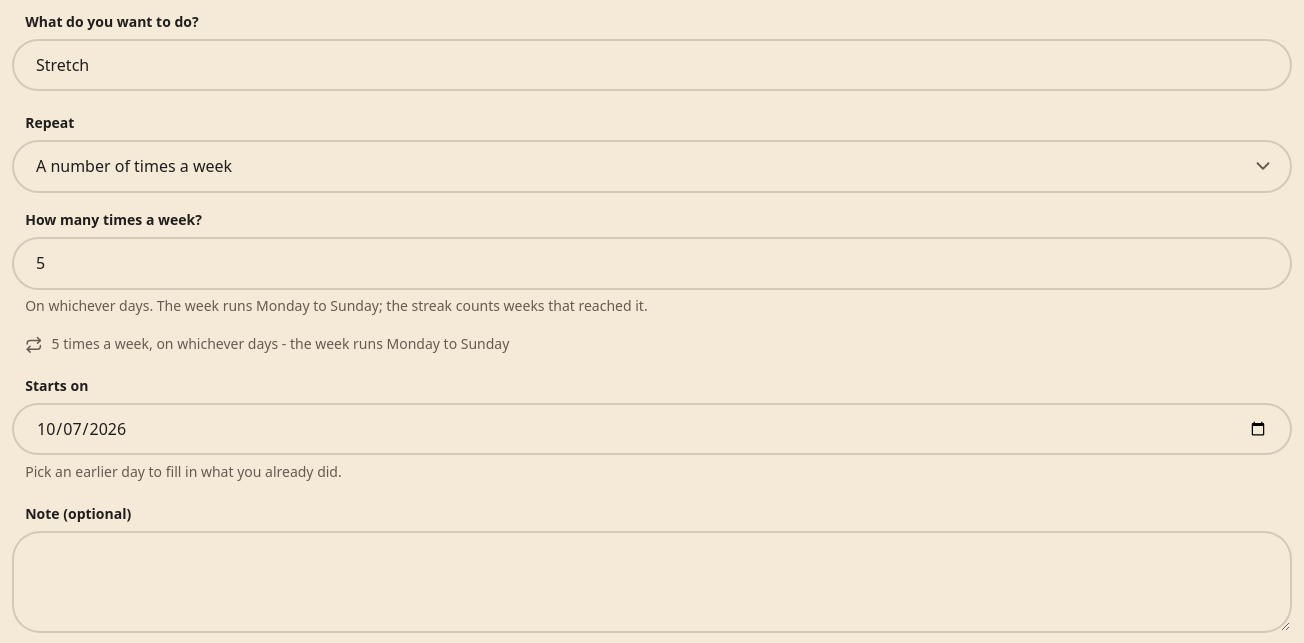
HabitForm: the repeat rule › keeps the count while the kind is switched between the week and the month
Select "A number of times a month" in the dropdown labelled "Repeat" at (652, 166), box [12, 140, 1292, 193]
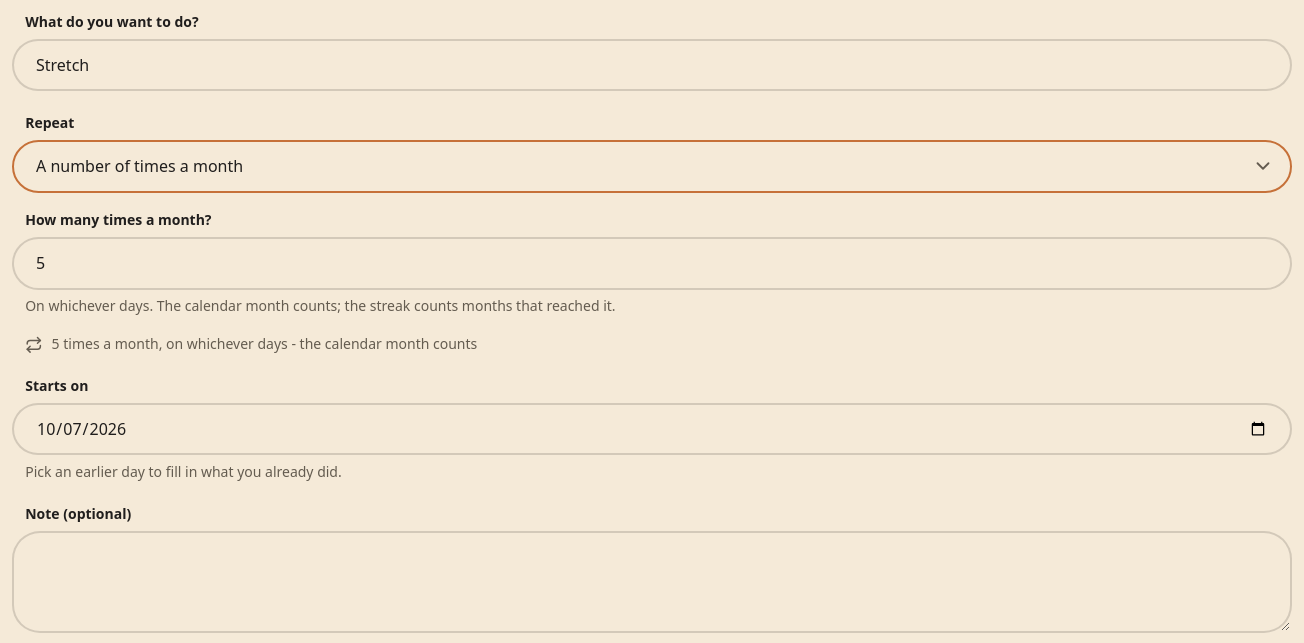
Expected: the number field labelled "How many times a month?" holds "5", [12, 237, 1292, 290]
Select "On days of the week" in the dropdown labelled "Repeat" at (652, 166), box [12, 140, 1292, 193]
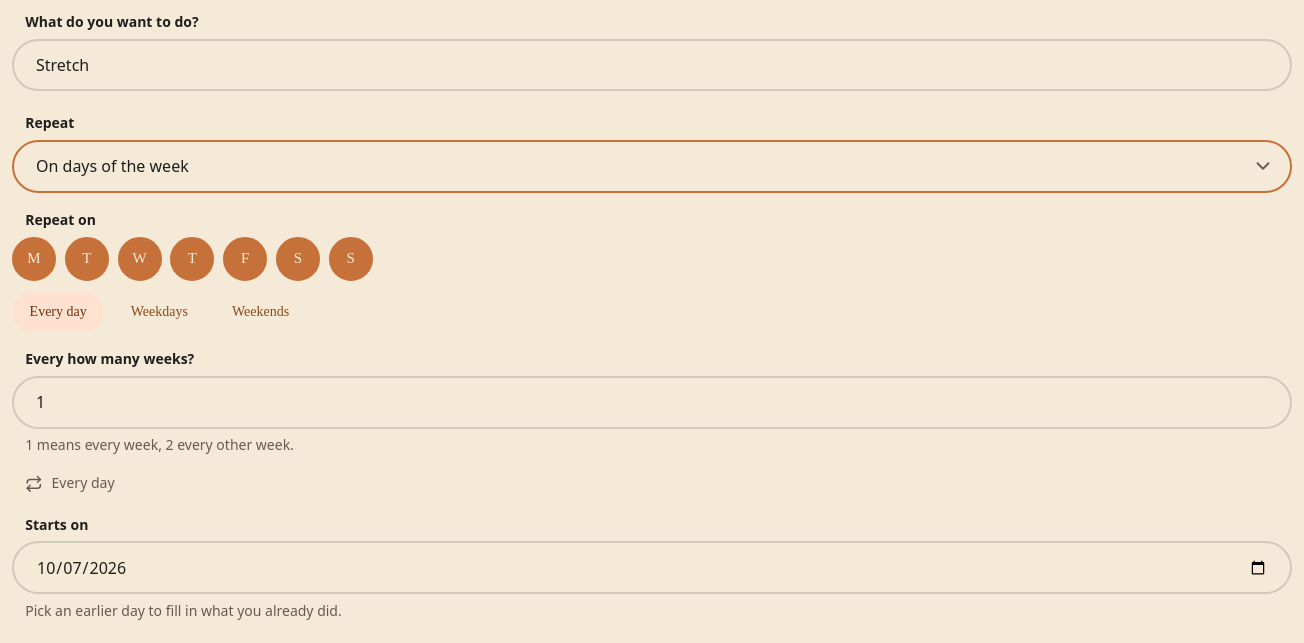
Select "A number of times a week" in the dropdown labelled "Repeat" at (652, 166), box [12, 140, 1292, 193]
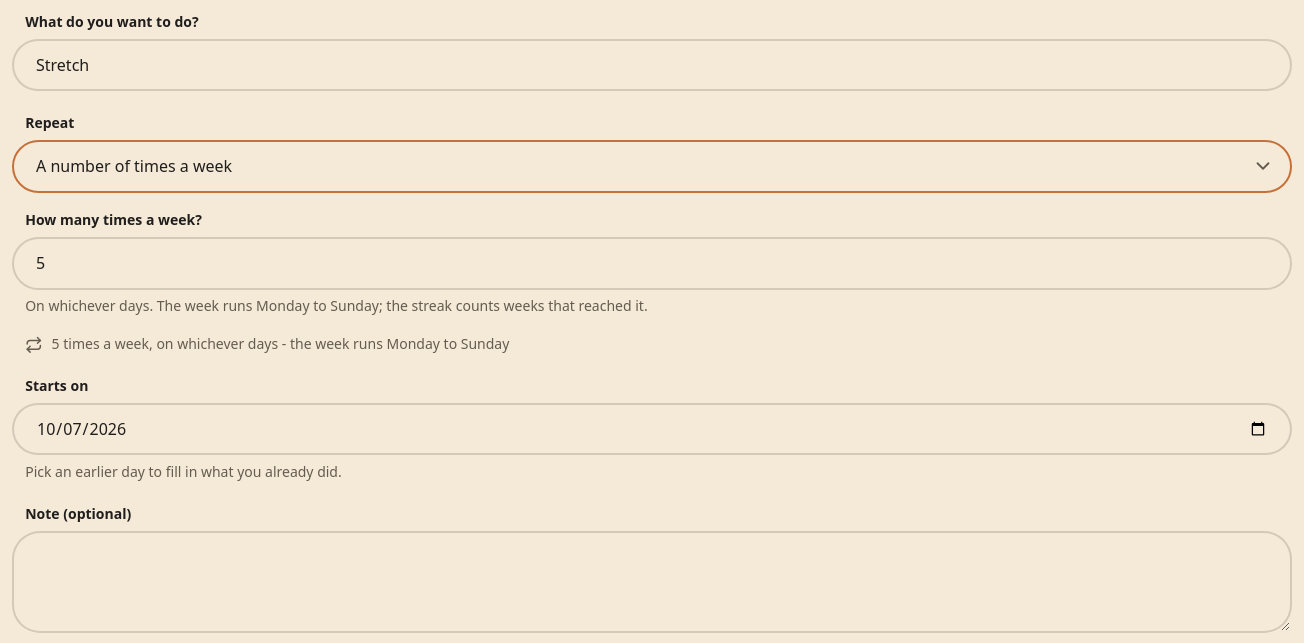
Expected: the number field labelled "How many times a week?" holds "5", [12, 237, 1292, 290]
